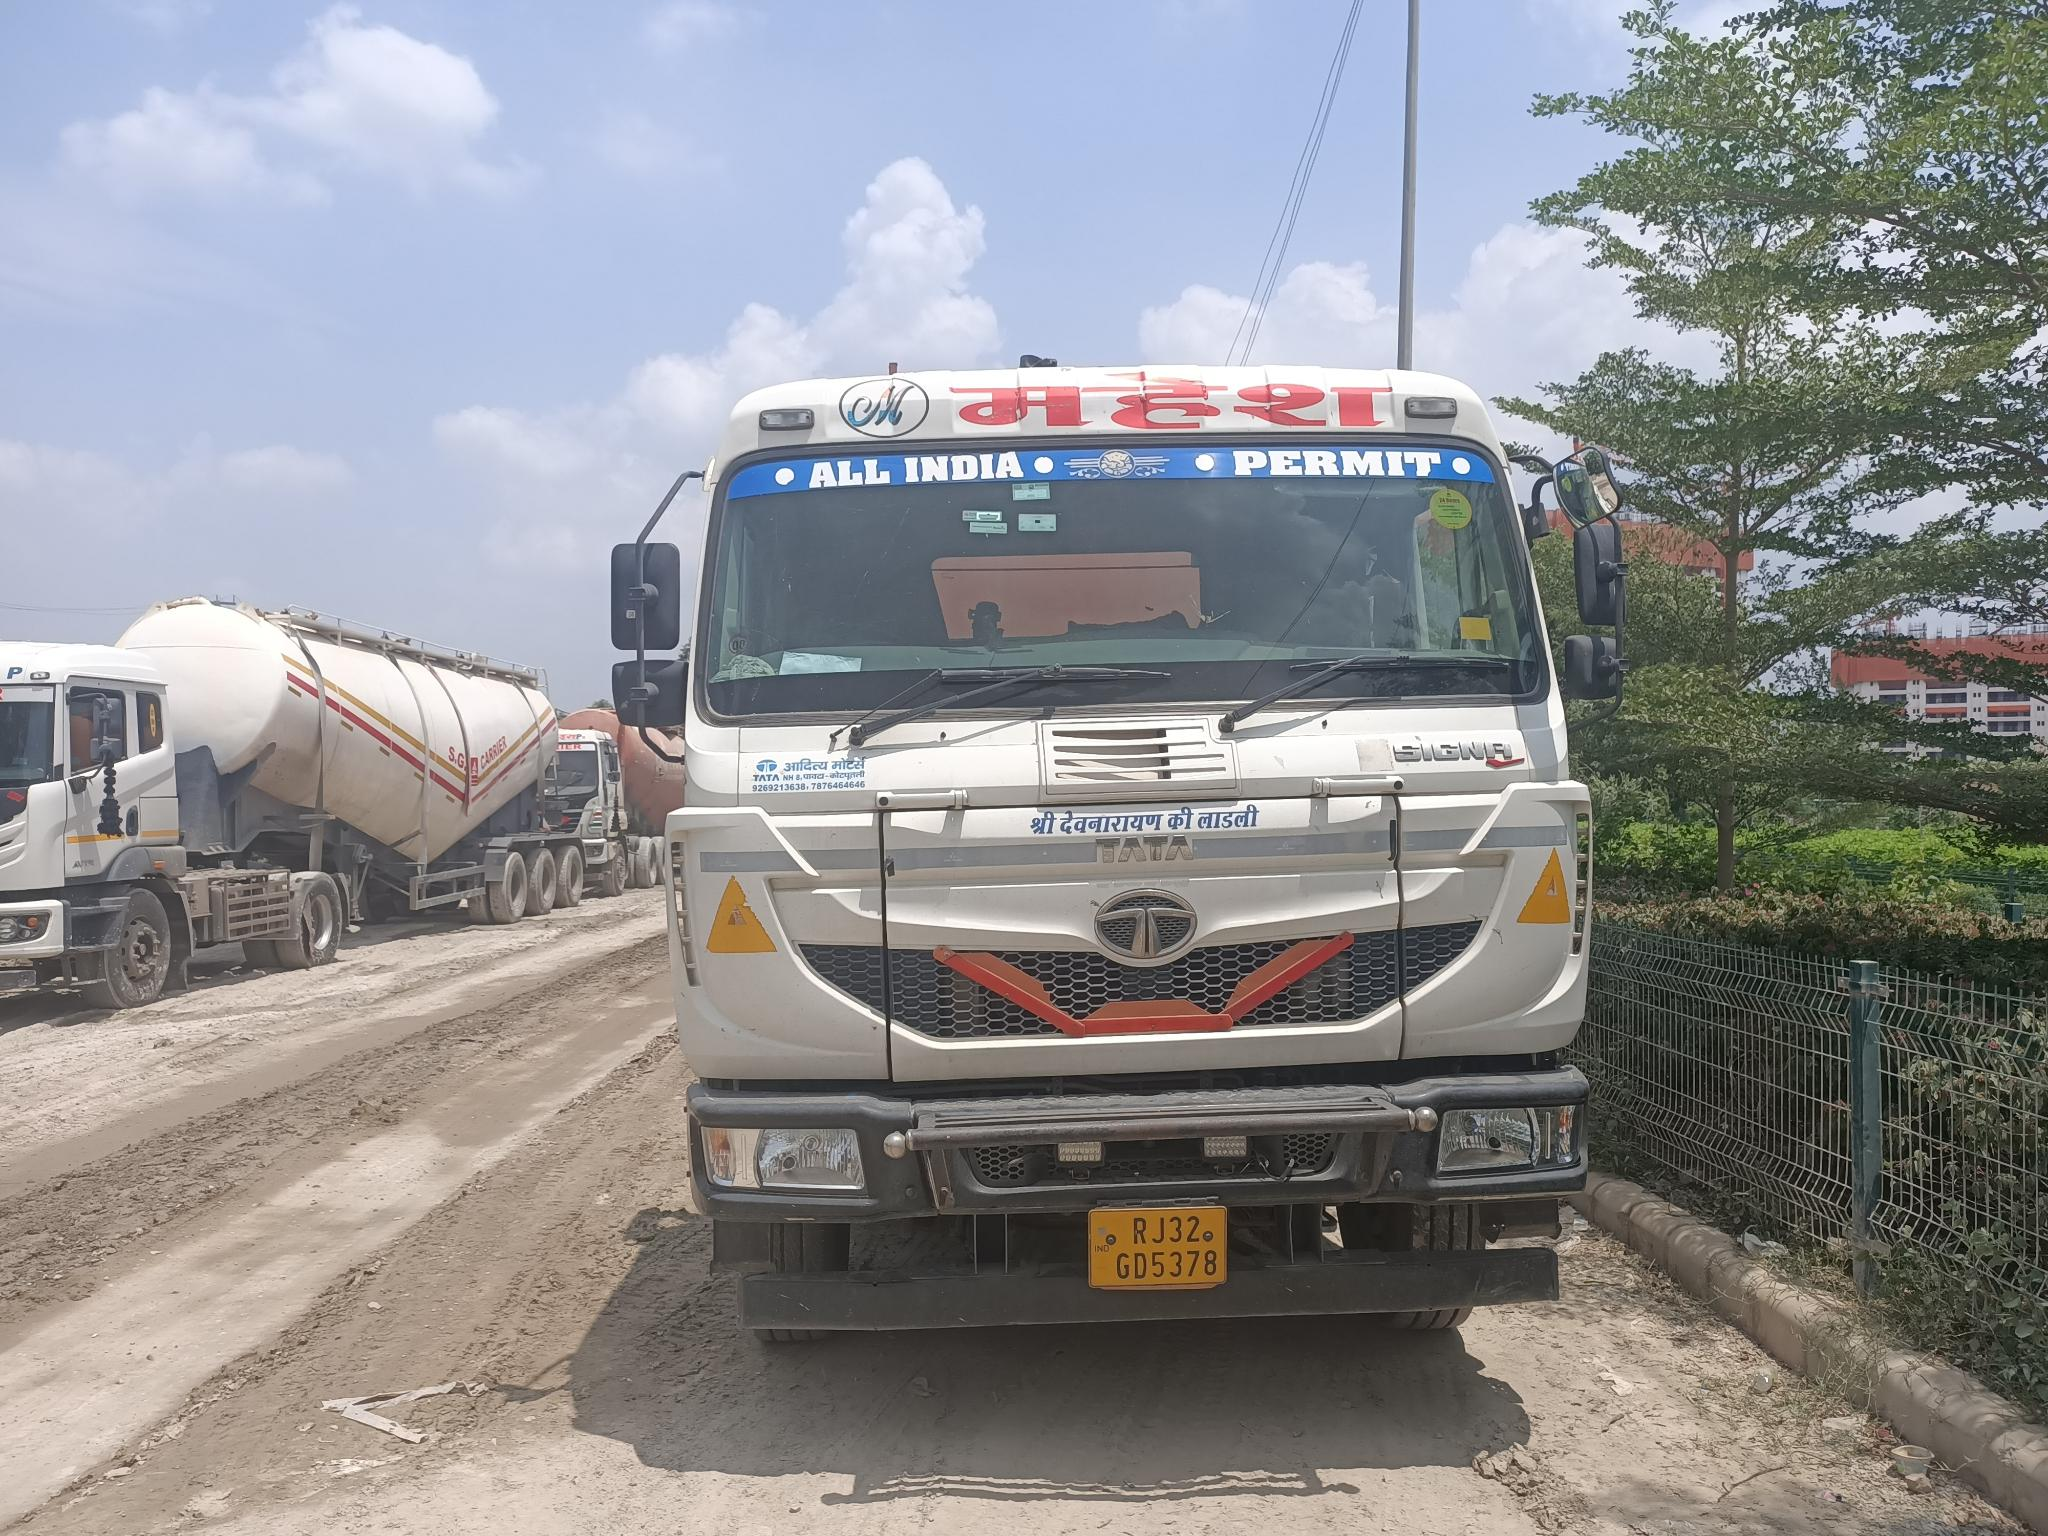FastTag: (1019, 513, 1056, 532)
not a FastTag: (1422, 487, 1479, 537), (1455, 608, 1505, 655), (1013, 482, 1051, 500), (969, 523, 1011, 537), (961, 510, 1003, 523)
